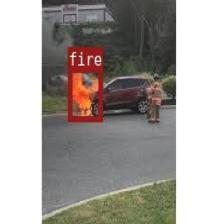fire: (67, 65, 102, 121)
